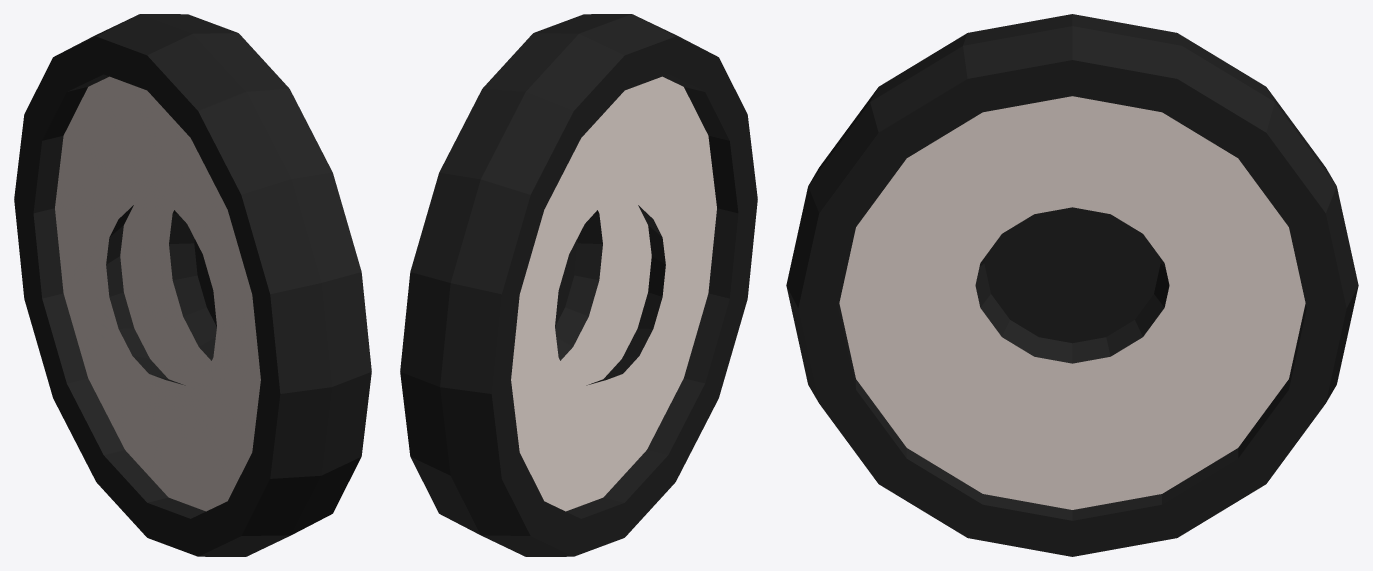
File: barin_tire_mesh.glb
The picture shows the model from 3 angles, left to right: view 1: azimuth 30°, elevation 25°; view 2: azimuth 150°, elevation 25°; view 3: azimuth 270°, elevation 25°; orthographic projection. The views are drawn at different scales.
Parts seen in each view (by area): view 1: wheel.002; view 2: wheel.002; view 3: wheel.002.
Part boxes in pixels (x1,y1,x2,y2): wheel.002: [14, 14, 371, 556]; wheel.002: [400, 14, 757, 556]; wheel.002: [786, 14, 1358, 556].
Size of the model in its own units: 0.2206 by 1.16 by 1.16.
